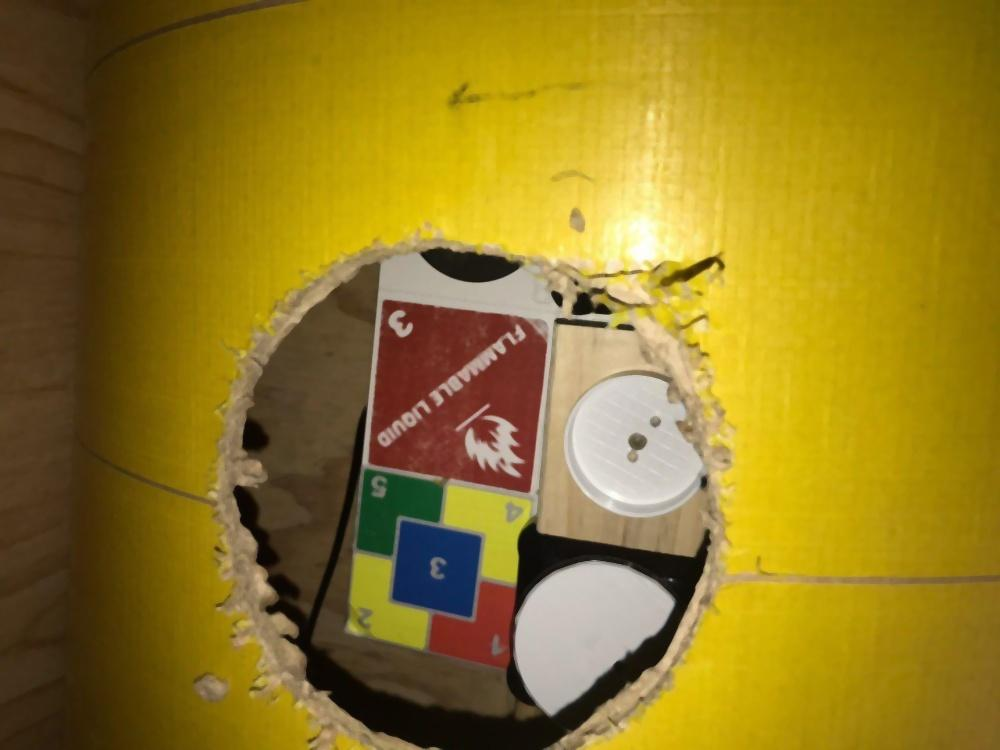flammable: (372, 297, 551, 493)
